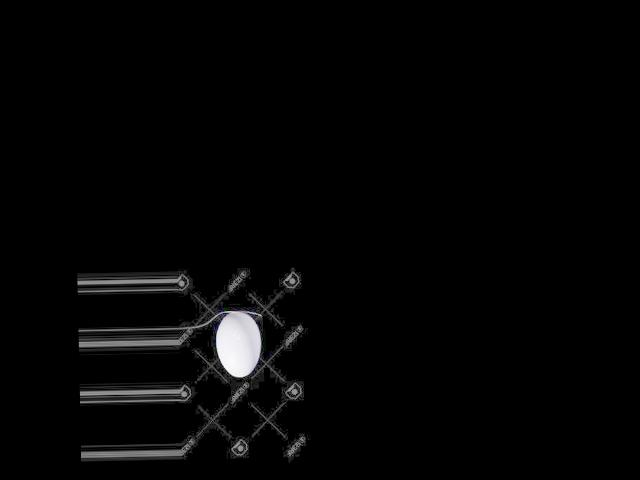egg: (214, 311, 261, 376)
